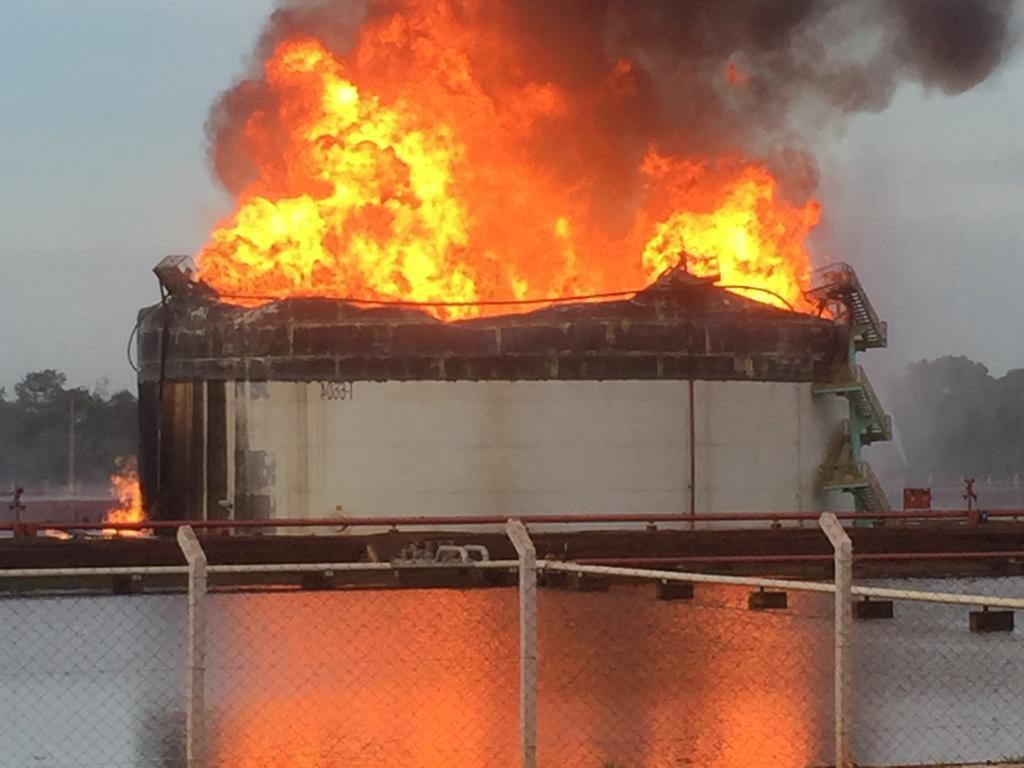Fire: (221, 49, 841, 324), (104, 465, 154, 535)
